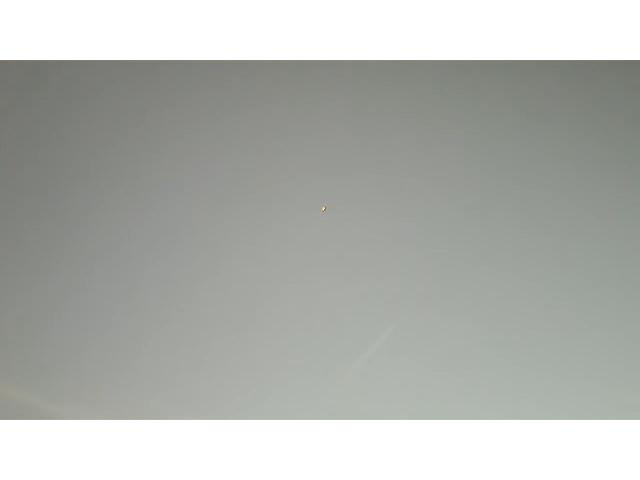Anti-Drone: (316, 202, 336, 220)
